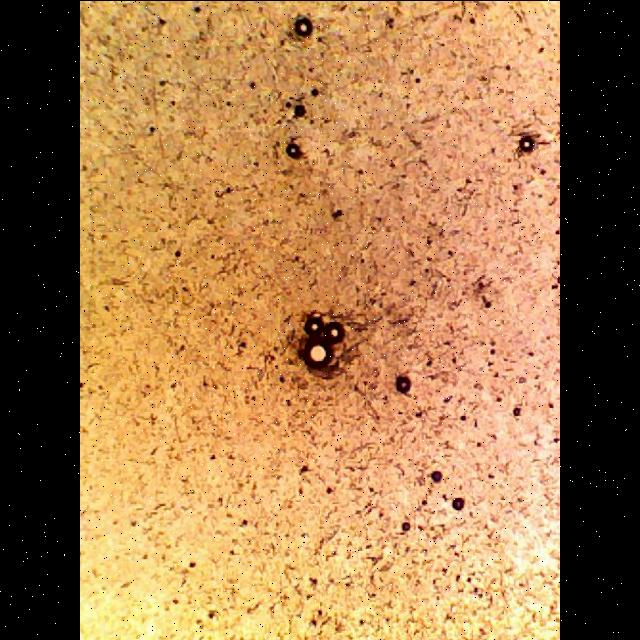microbeads: (302, 308, 344, 370)
